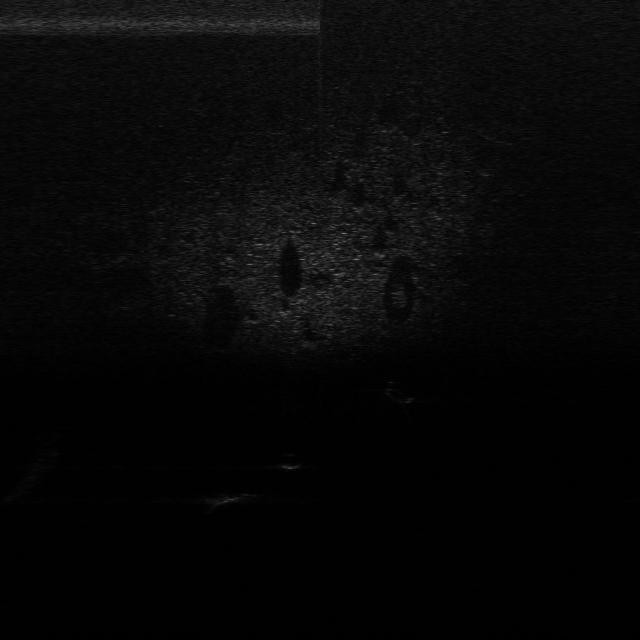ball: (277, 452, 302, 472)
square cage: (204, 488, 260, 508)
tyre: (379, 378, 417, 406)
